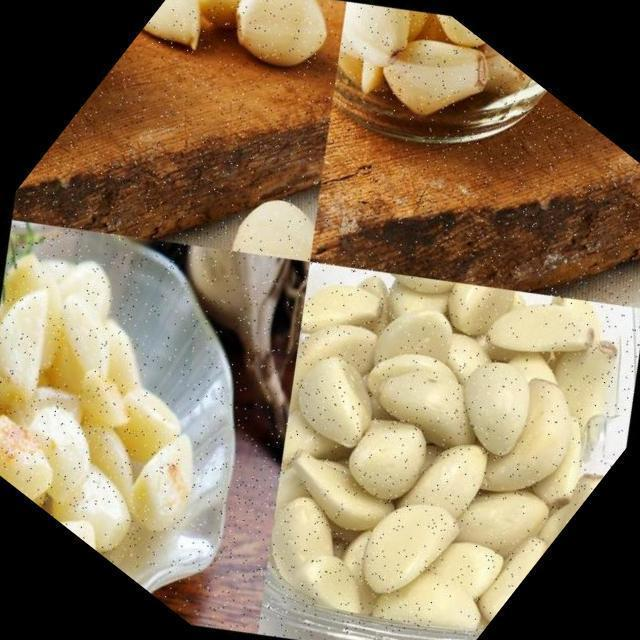garlic: (130, 129, 640, 640), (0, 152, 368, 618), (294, 0, 566, 215), (119, 200, 348, 430), (163, 0, 364, 125), (201, 154, 342, 294), (123, 0, 235, 88)
